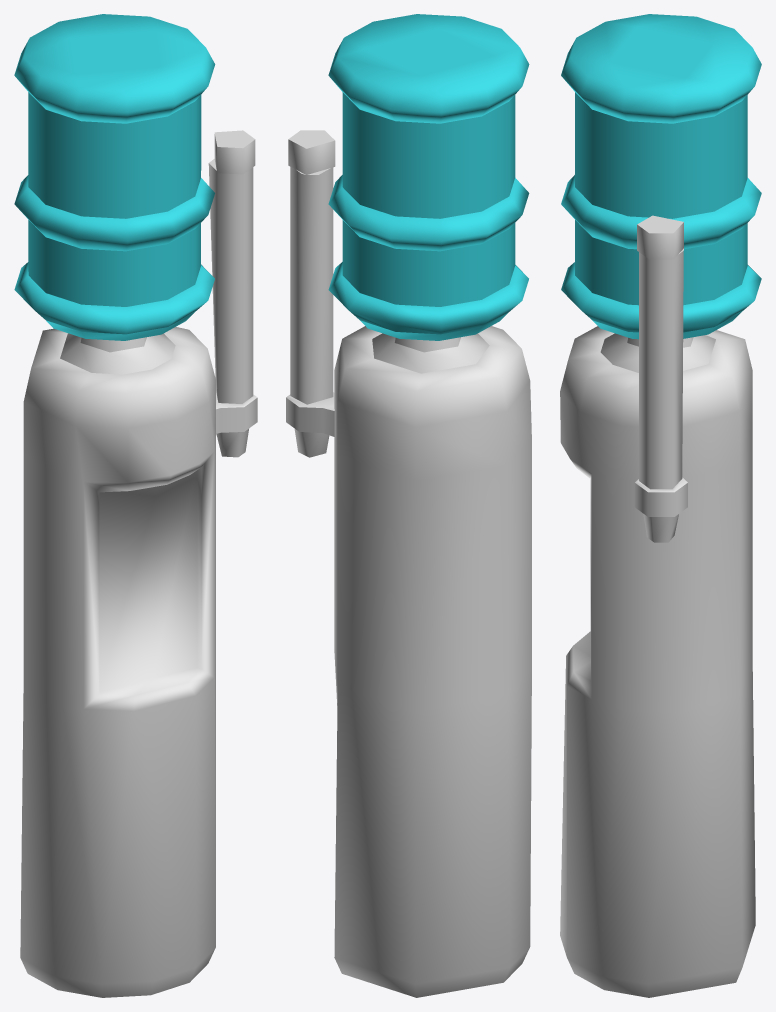
File: SM_WaterCooler_LOD2.fbx
3 renders of one model, left to right at view 1: azimuth 30°, elevation 25°; view 2: azimuth 150°, elevation 25°; view 3: azimuth 270°, elevation 25°, orthographic.
Parts seen in each view (by area): view 1: Water_Cooler_LOD2; view 2: Water_Cooler_LOD2; view 3: Water_Cooler_LOD2.
Boxes of the visible parts, x1,y1,x2,y2 form: Water_Cooler_LOD2: (14,14,257,997); Water_Cooler_LOD2: (286,14,531,997); Water_Cooler_LOD2: (560,14,761,997).
Bounding box in the file's own units: 55.86 × 216 × 43.58.
